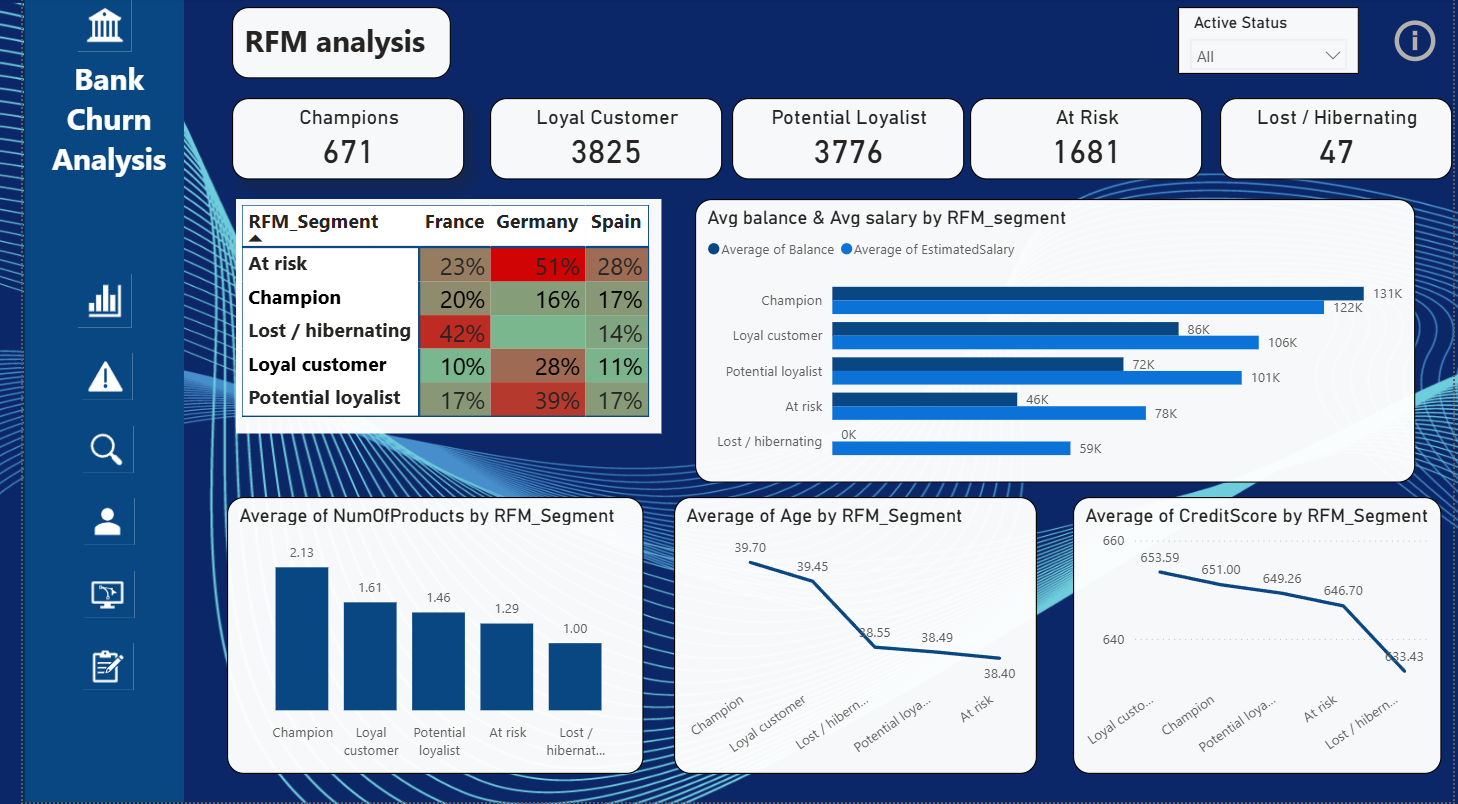

Layout of this report page (visuals, bound fields, positions):
{"tool":"powerbi","page":{"name":"🔍RFM investigation","canvas":[1280,720],"ordinal":2},"visuals":[{"type":"pivotTable","fields":{"Columns":["rfm_master_table.Geography"],"Rows":["rfm_master_table.RFM_Segment"],"Values":["Bank_Churn.Churn Rate"]},"box":[190.6,179.9,381.3,210.1],"z":0},{"type":"shape","box":[0.9,0,143.3,720.9],"z":1000},{"type":"textbox","box":[186.7,7.8,195.5,64.2],"z":2000},{"type":"card","title":"Champions","fields":{"Values":["RFM_SEGMENT_filter.Champion Customers"]},"box":[186.7,89.5,208.1,72.9],"z":3000},{"type":"card","title":"Loyal Customer","fields":{"Values":["RFM_SEGMENT_filter.Loyal Customers"]},"box":[418.2,89.5,208.1,72.9],"z":4000},{"type":"card","title":"Potential Loyalist","fields":{"Values":["RFM_SEGMENT_filter.Potential Customers"]},"box":[635.1,89.5,208.1,72.9],"z":5000},{"type":"card","title":"At Risk","fields":{"Values":["RFM_SEGMENT_filter.At risk customer"]},"box":[848.1,89.5,208.1,72.9],"z":6000},{"type":"card","title":"Lost / Hibernating","fields":{"Values":["RFM_SEGMENT_filter.Lost_hibernating customer"]},"box":[1071.9,89.5,208.1,72.9],"z":7000},{"type":"clusteredBarChart","title":"Avg balance & Avg salary by RFM_segment","fields":{"Category":["rfm_master_table.RFM_Segment"],"Y":["Avg(rfm_master_table.Balance)","Avg(rfm_master_table_1.EstimatedSalary)"]},"box":[602.1,179.9,644.9,253.9],"z":8000},{"type":"lineChart","fields":{"Category":["rfm_master_table.RFM_Segment"],"Y":["Avg(rfm_master_table.CreditScore)"]},"box":[940.5,446.4,329.7,248],"z":9000},{"type":"lineChart","fields":{"Category":["rfm_master_table.RFM_Segment"],"Y":["Avg(rfm_master_table.Age)"]},"box":[582.6,446.4,324.9,248],"z":10000},{"type":"clusteredColumnChart","fields":{"Category":["rfm_master_table.RFM_Segment"],"Y":["Avg(rfm_master_table.NumOfProducts)"]},"box":[182.9,446.4,372.5,248],"z":11000},{"type":"actionButton","box":[1223.3,8.1,46.6,60],"z":12000},{"type":"slicer","fields":{"Values":["rfm_master_table_1.IsActive Status"]},"box":[1033.9,7.8,162.4,60.3],"z":13000},{"type":"actionButton","box":[49.3,247.2,48.4,48.4],"z":14000},{"type":"actionButton","box":[53.9,383.1,44.8,42.1],"z":15000},{"type":"actionButton","box":[54.3,512.8,44.8,42.1],"z":16000},{"type":"actionButton","box":[53.2,318.3,44.8,42.1],"z":17000},{"type":"actionButton","box":[54.6,447.9,44.8,42.1],"z":18000},{"type":"actionButton","box":[53.6,577.6,44.8,42.1],"z":19000},{"type":"textbox","box":[7.2,48.4,139.7,128.1],"z":20000},{"type":"actionButton","box":[49.3,0,48.4,48.4],"z":21000}]}

Visuals, with their boxes in screenshot pixels (x1, y1, x2, y2), scaled from the page's 1280x720 canvas onto the 1458x804 screenshot:
pivotTable - rfm_master_table.Geography x rfm_master_table.RFM_Segment: box(217, 201, 651, 436)
shape: box(1, 0, 164, 803)
textbox: box(213, 9, 435, 80)
"Champions" card: box(213, 100, 450, 181)
"Loyal Customer" card: box(476, 100, 713, 181)
"Potential Loyalist" card: box(723, 100, 960, 181)
"At Risk" card: box(966, 100, 1203, 181)
"Lost / Hibernating" card: box(1221, 100, 1457, 181)
"Avg balance & Avg salary by RFM_segment" clusteredBarChart: box(686, 201, 1420, 484)
lineChart - rfm_master_table.RFM_Segment x Avg(rfm_master_table.CreditScore): box(1071, 498, 1447, 775)
lineChart - rfm_master_table.RFM_Segment x Avg(rfm_master_table.Age): box(664, 498, 1034, 775)
clusteredColumnChart - rfm_master_table.RFM_Segment x Avg(rfm_master_table.NumOfProducts): box(208, 498, 633, 775)
actionButton: box(1393, 9, 1446, 76)
slicer - rfm_master_table_1.IsActive Status: box(1178, 9, 1363, 76)
actionButton: box(56, 276, 111, 330)
actionButton: box(61, 428, 112, 475)
actionButton: box(62, 573, 113, 620)
actionButton: box(61, 355, 112, 402)
actionButton: box(62, 500, 113, 547)
actionButton: box(61, 645, 112, 692)
textbox: box(8, 54, 167, 197)
actionButton: box(56, 0, 111, 54)
